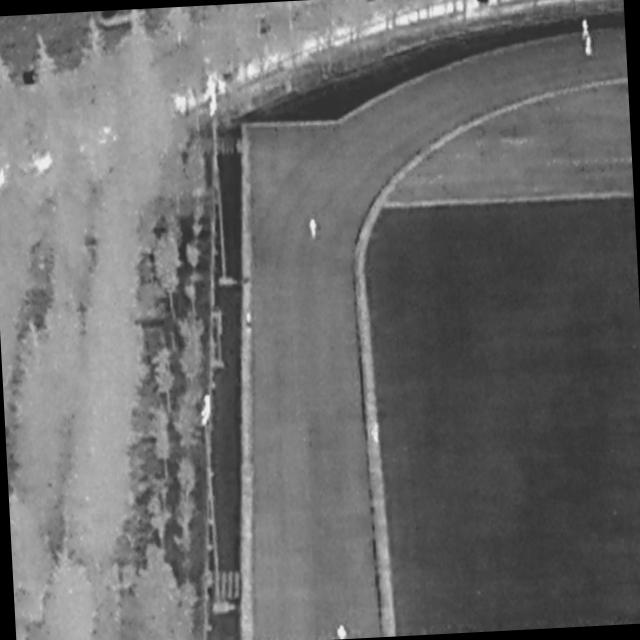person: (309, 218, 320, 239), (372, 422, 381, 446), (247, 310, 255, 335), (583, 18, 591, 42), (586, 37, 595, 58), (337, 626, 348, 640)
